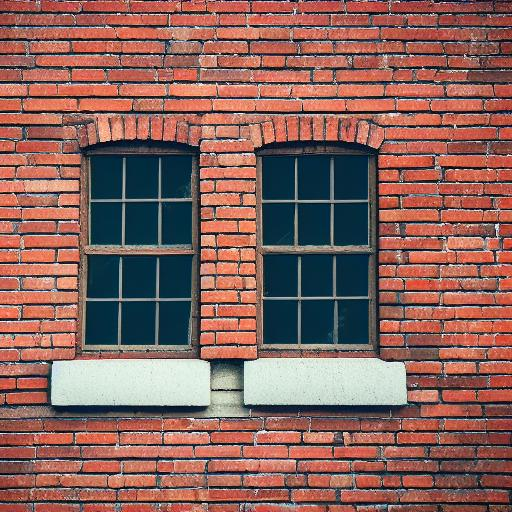Window: (48, 118, 411, 414)
